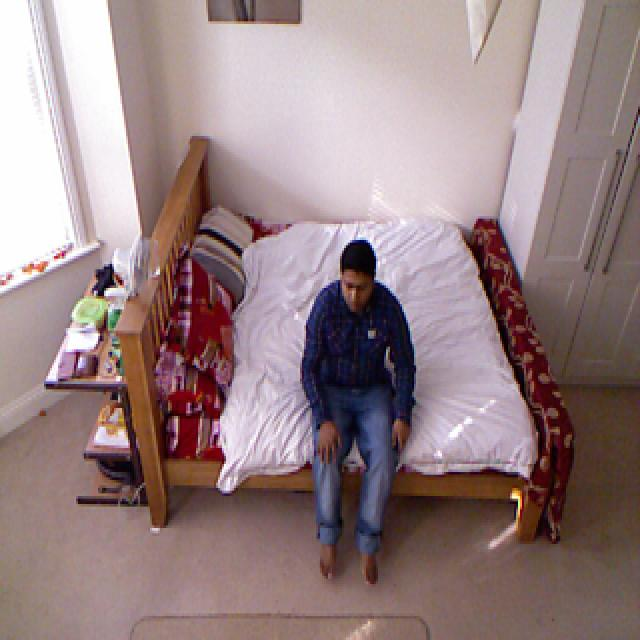sitting: (304, 234, 418, 588)
